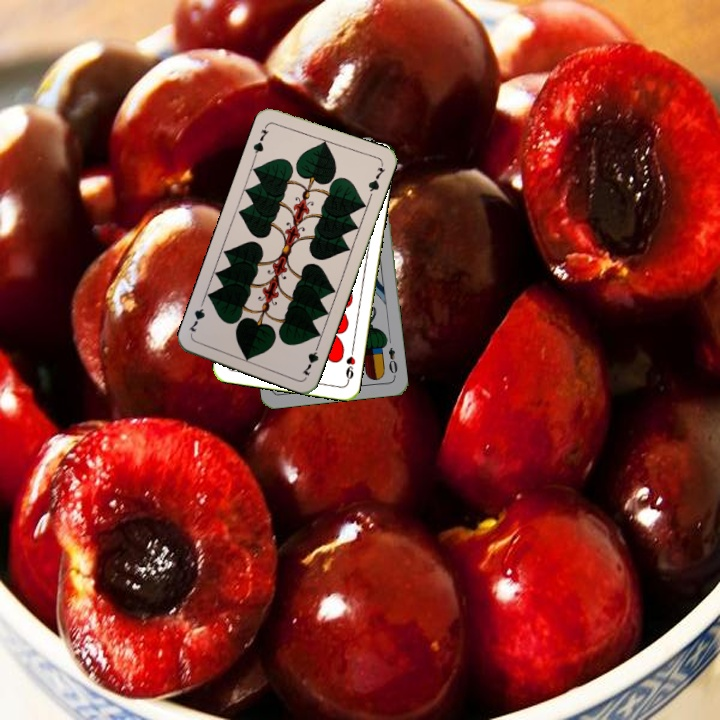EO: (384, 343, 400, 379)
G7: (298, 339, 322, 379), (249, 120, 271, 159)
H9: (342, 344, 358, 385)
